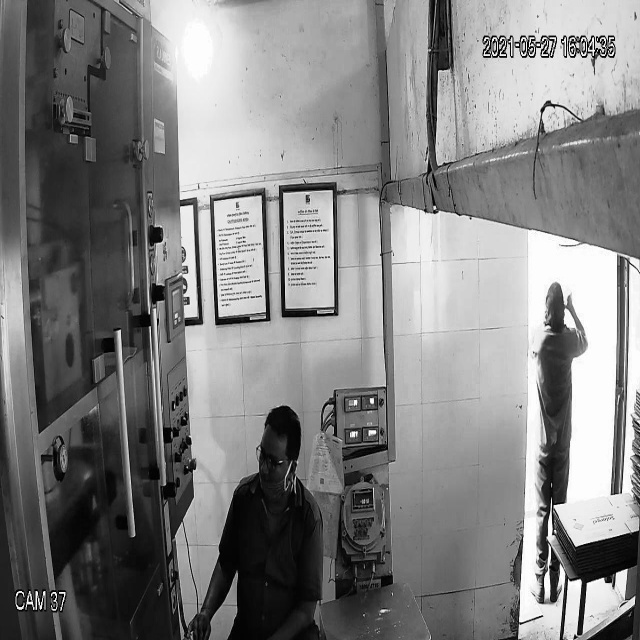Gafas: (250, 440, 299, 477)
